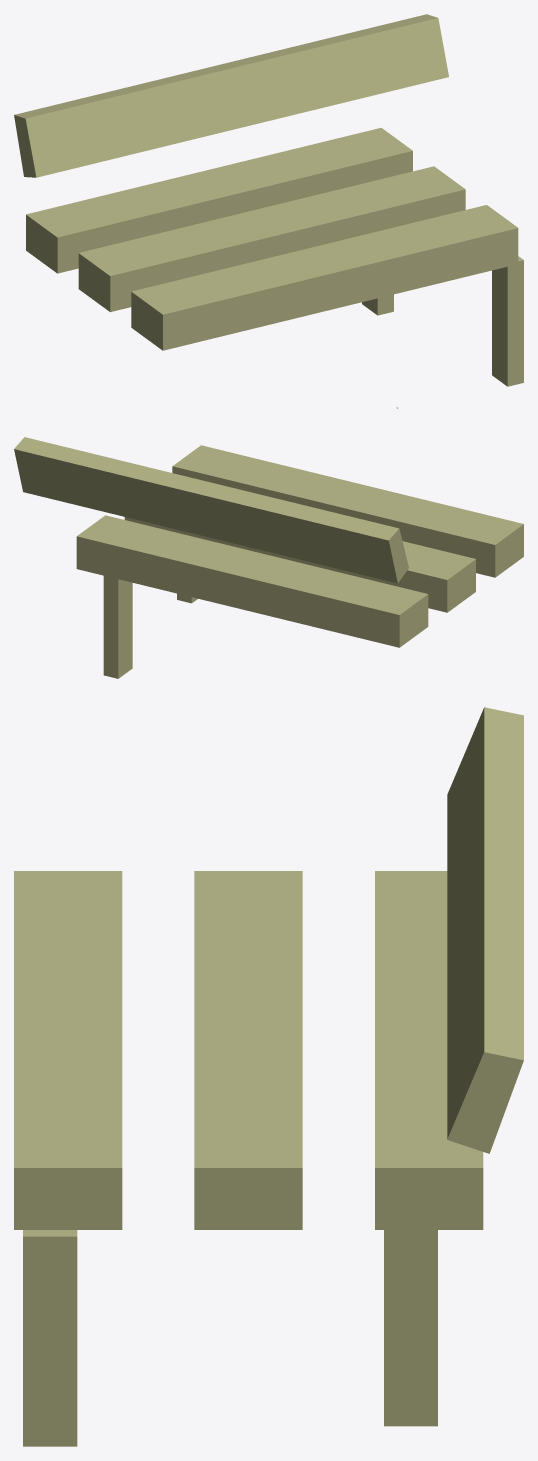
The model's file is banquita.gltf.
The picture shows the model from 3 angles, top to bottom: view 1: azimuth 30°, elevation 25°; view 2: azimuth 150°, elevation 25°; view 3: azimuth 270°, elevation 25°; orthographic projection. The views are drawn at different scales.
Parts seen in each view (by area): view 1: Mesh_Mesh_head_geo.001_lambert2SG.001; view 2: Mesh_Mesh_head_geo.001_lambert2SG.001; view 3: Mesh_Mesh_head_geo.001_lambert2SG.001.
Part boxes in pixels (box(x1,y1,x2,y2)): Mesh_Mesh_head_geo.001_lambert2SG.001: box(14, 14, 523, 386); Mesh_Mesh_head_geo.001_lambert2SG.001: box(14, 437, 523, 678); Mesh_Mesh_head_geo.001_lambert2SG.001: box(14, 707, 523, 1446).
Bounding box in the file's own units: 847 × 500 × 529.
